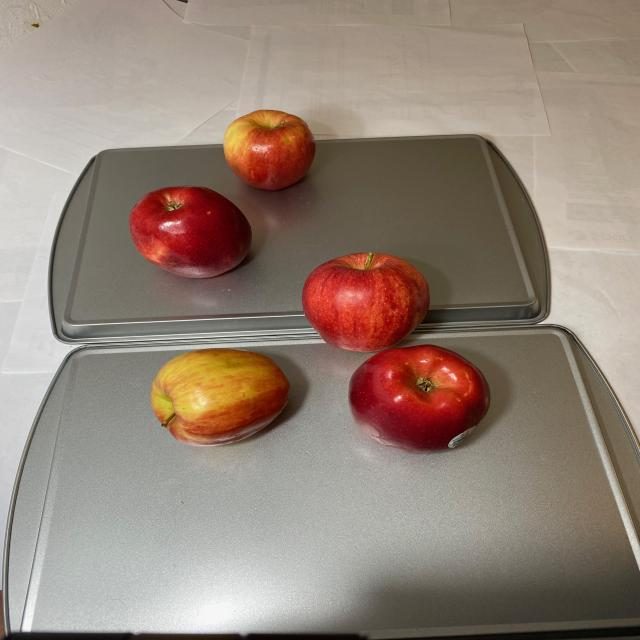apple: (148, 250, 492, 470), (128, 112, 317, 278)
